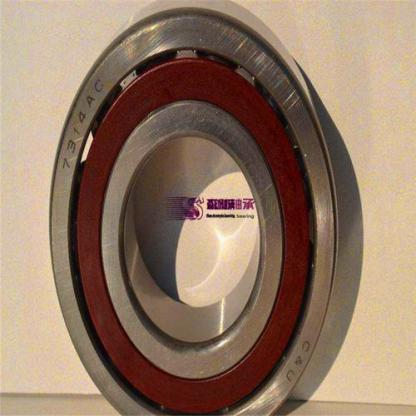FOD: (44, 3, 341, 415)
